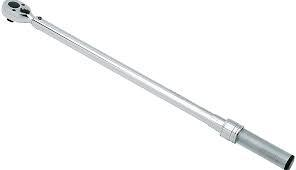wrench: (0, 0, 295, 169)
